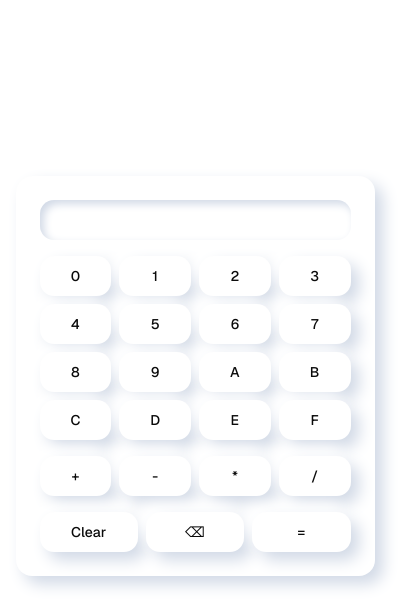
it: Hex Calculator - Logic & Edge Case Tests › shows error for missing operator (e.g., A1=)
The width and height of the screenshot is (406, 607).
Step 1. Click the button "A" → (235, 372), box top-left (199, 352), bottom-right (271, 392)
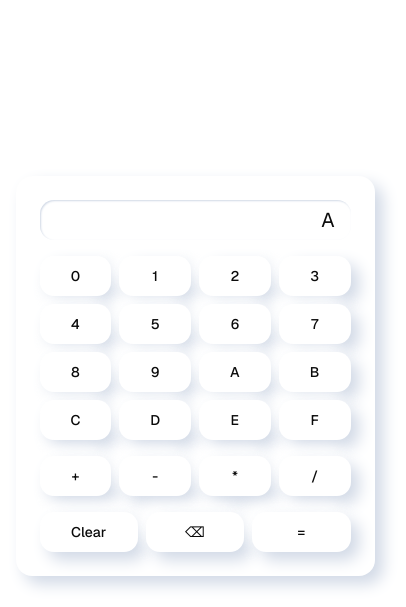
Step 2. Click the button "1" → (155, 276), box top-left (119, 256), bottom-right (191, 296)
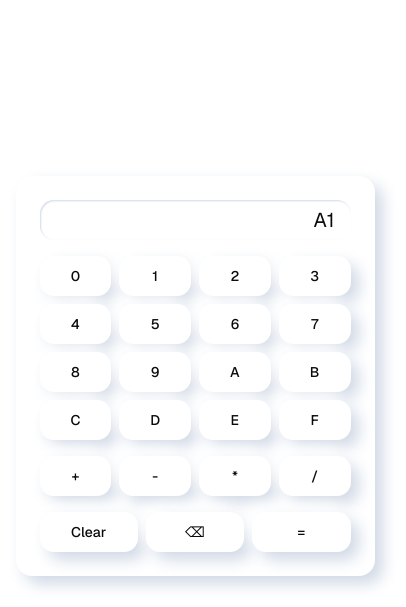
Step 3. Click the button "=" → (301, 532), box top-left (252, 512), bottom-right (350, 552)
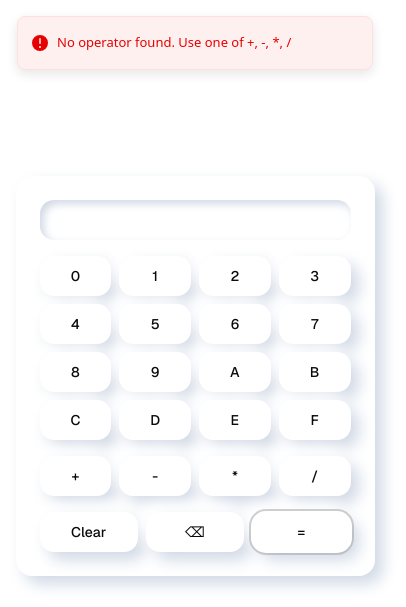
Expected: the list item "No operator found. Use one of +, -, *, /" is shown, top-left (17, 16), bottom-right (373, 70)
